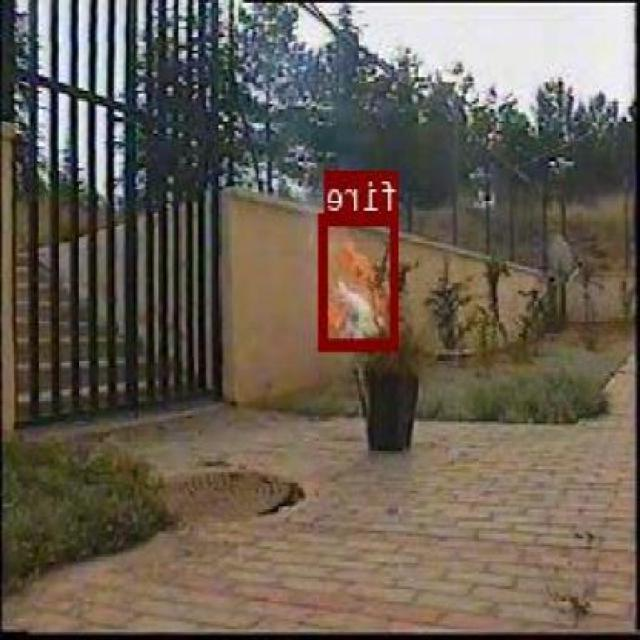Fire: (322, 214, 402, 348)
